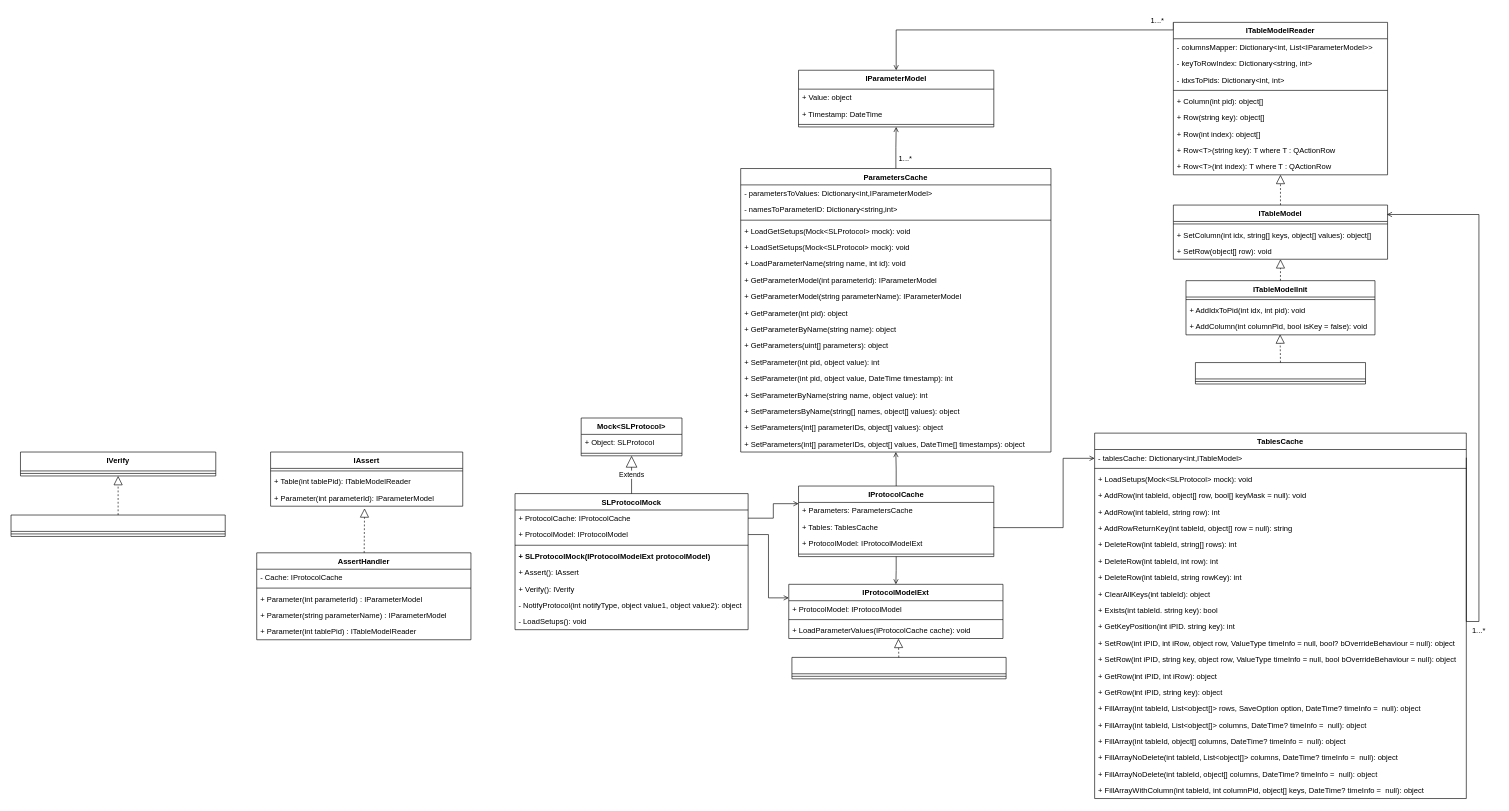
Image size: 1509x811. Some labels were removed from this diagram. Here are the shapes that lost their labels. From the top down, the centre of each, then its label:
the point at 1280,373: TableModel
the point at 117,525: VerifyHandler
the point at 898,668: ProtocolModelExt
